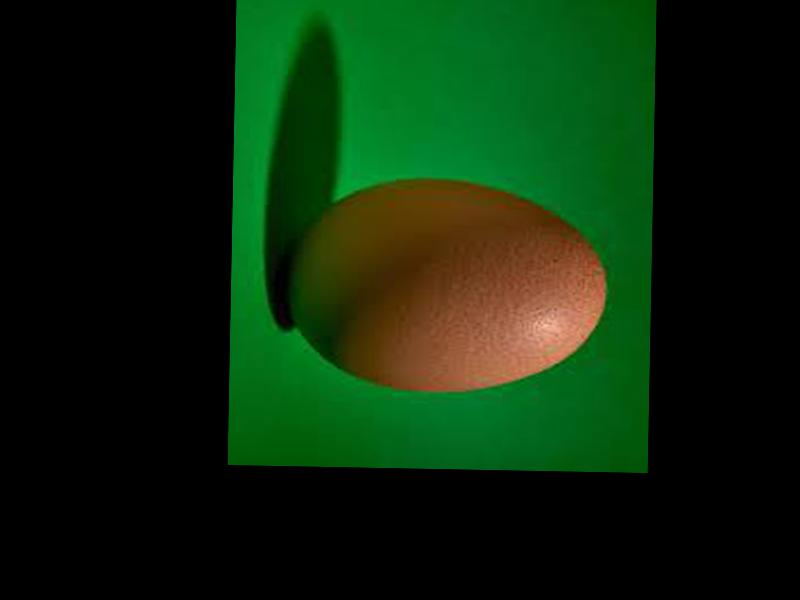Eggs: (283, 176, 606, 396)
